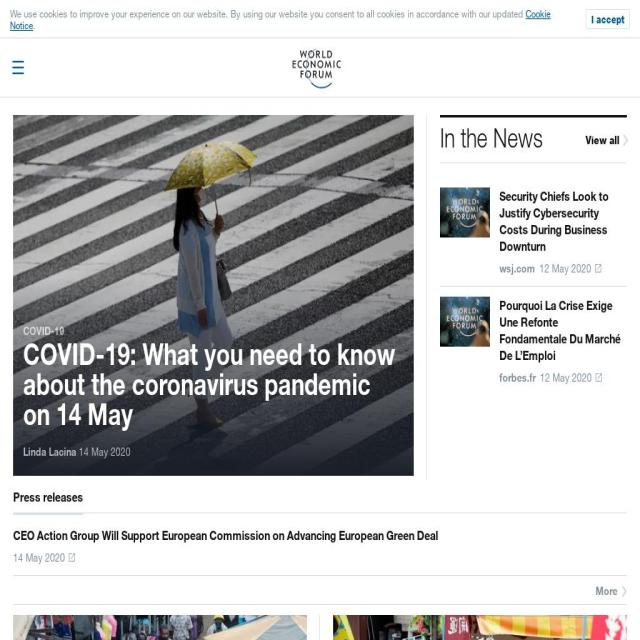button: (13, 115, 414, 479), (13, 526, 627, 565), (439, 296, 627, 386), (439, 188, 627, 276), (0, 615, 320, 640), (320, 615, 640, 640), (0, 38, 36, 94), (586, 8, 630, 30), (292, 58, 342, 74), (585, 132, 627, 148), (600, 582, 627, 598)
heading: (23, 338, 404, 428), (13, 526, 627, 543), (499, 187, 627, 255), (499, 297, 627, 364), (440, 121, 542, 154), (585, 132, 622, 148), (623, 133, 628, 147)
image: (0, 115, 436, 476), (13, 615, 307, 640), (333, 615, 627, 640), (440, 296, 490, 348), (440, 188, 490, 238), (292, 49, 342, 90), (12, 60, 24, 74), (622, 585, 627, 598)
link: (10, 7, 551, 31)
text: (10, 7, 526, 31), (23, 322, 404, 338), (13, 487, 83, 515), (539, 262, 602, 275), (540, 371, 602, 384), (13, 550, 75, 563), (23, 444, 76, 458), (78, 444, 130, 458), (499, 371, 536, 384), (500, 262, 536, 275), (596, 582, 618, 598), (33, 18, 36, 32)
